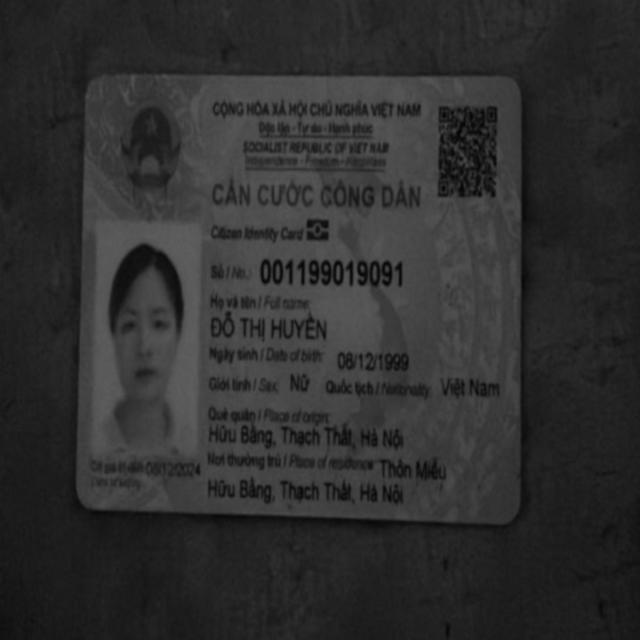bottom_left: (59, 476, 108, 526)
bottom_right: (489, 491, 532, 537)
image_person: (94, 226, 204, 454)
top_left: (77, 64, 115, 107)
top_right: (494, 65, 535, 107)
